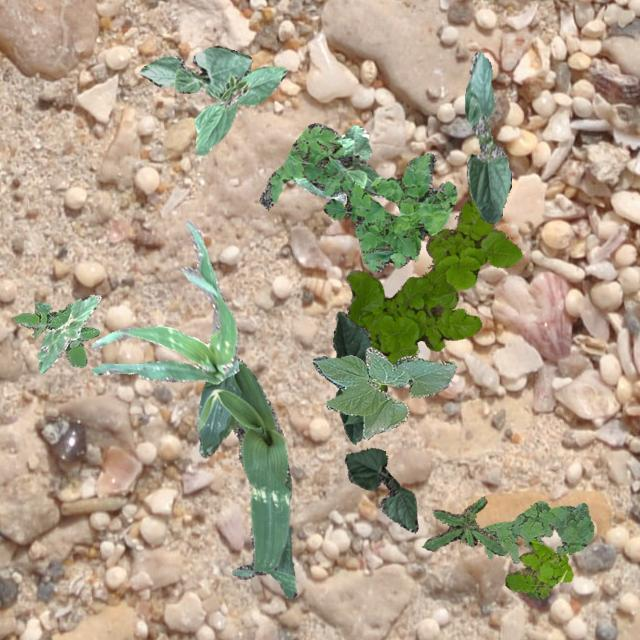crop: (196, 357, 296, 598), (90, 220, 238, 382), (312, 346, 456, 438), (192, 64, 286, 154), (464, 50, 511, 222), (291, 125, 381, 202), (343, 447, 418, 532), (138, 44, 252, 98), (332, 311, 371, 444), (36, 294, 100, 372)
weed: (344, 195, 520, 392), (258, 122, 456, 270), (482, 500, 592, 562), (10, 300, 99, 366), (422, 496, 504, 554), (504, 538, 572, 598)
